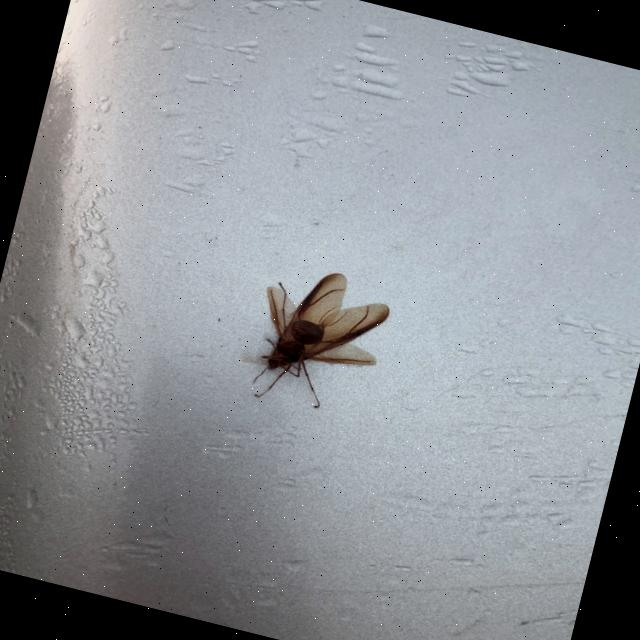Dead-Male-Alate: (240, 257, 396, 423)
